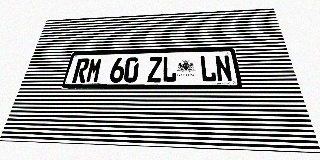0: (123, 57, 139, 83)
6: (109, 57, 126, 83)
L: (199, 55, 217, 82), (162, 56, 177, 82)
M: (85, 58, 103, 83)
N: (214, 55, 233, 82)
R: (72, 58, 90, 83)
Z: (147, 57, 162, 82)
